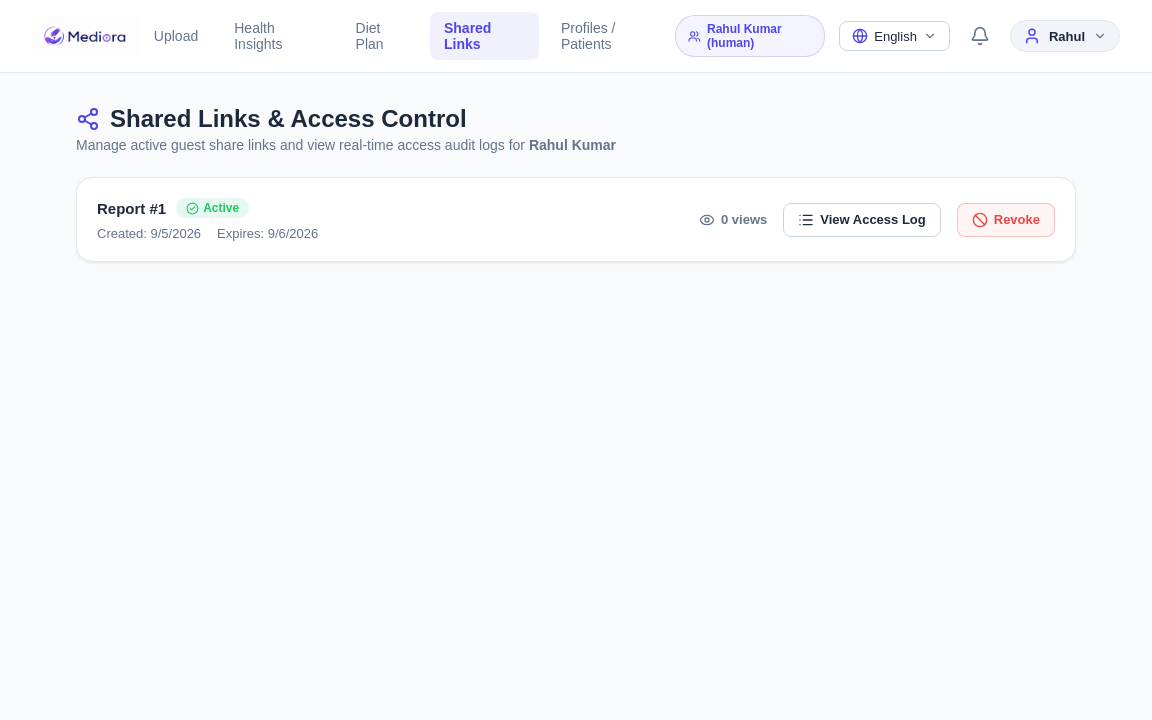
Test case: SharingSettingsPage Integration Tests › revoking a share link requires confirmation and updates link status to revoked
Click the button "Revoke" at (1006, 220), box [957,202,1055,236]
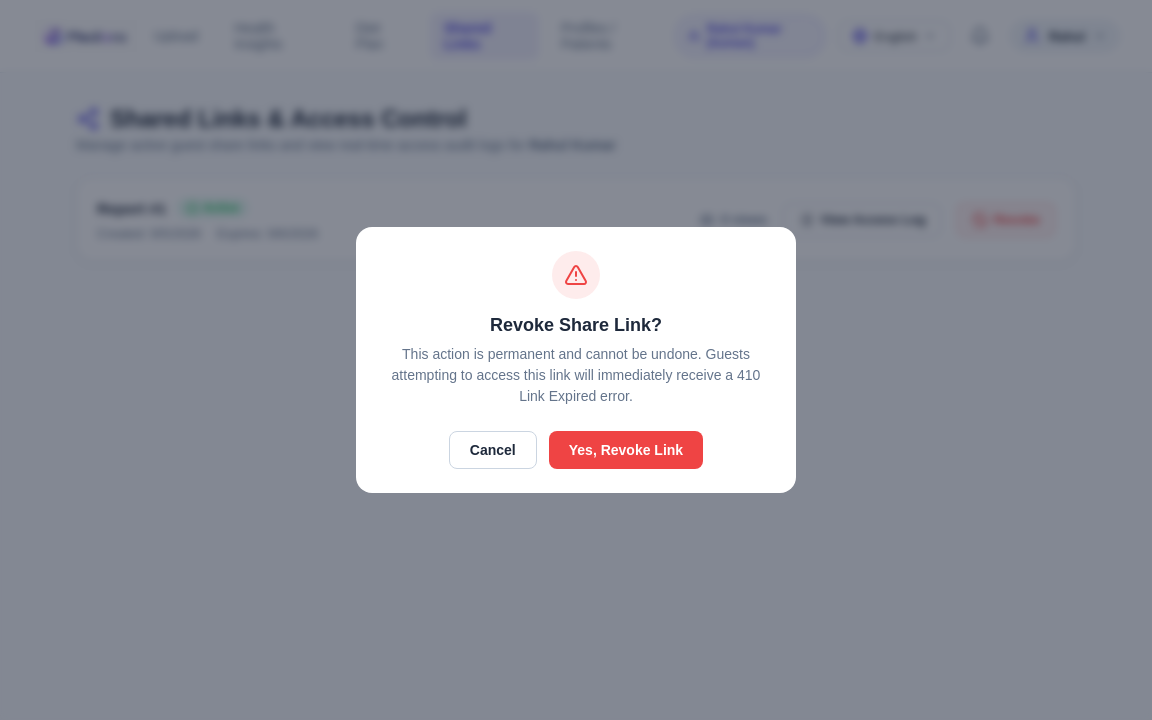
Expected: the heading "Revoke Share Link?" is shown, [490,315,662,335]
Click the button "Yes, Revoke Link" at (626, 450), box [549,431,703,469]
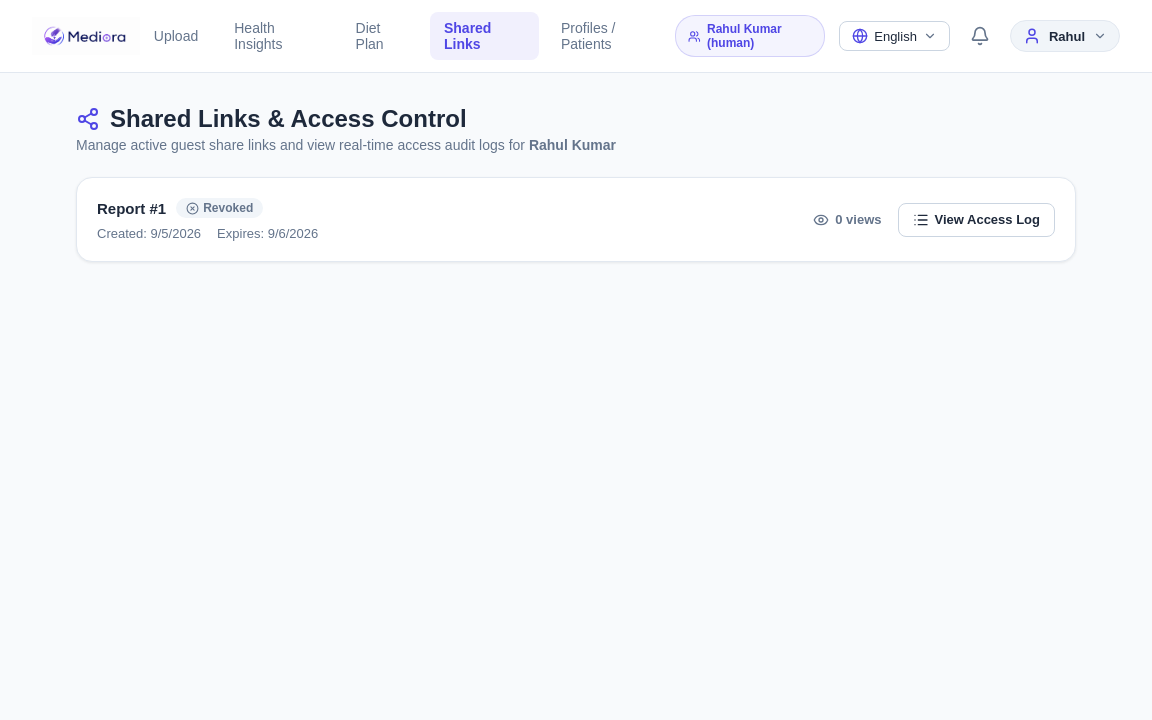
Expected: the text "Revoked" is shown, [203,201,253,215]
